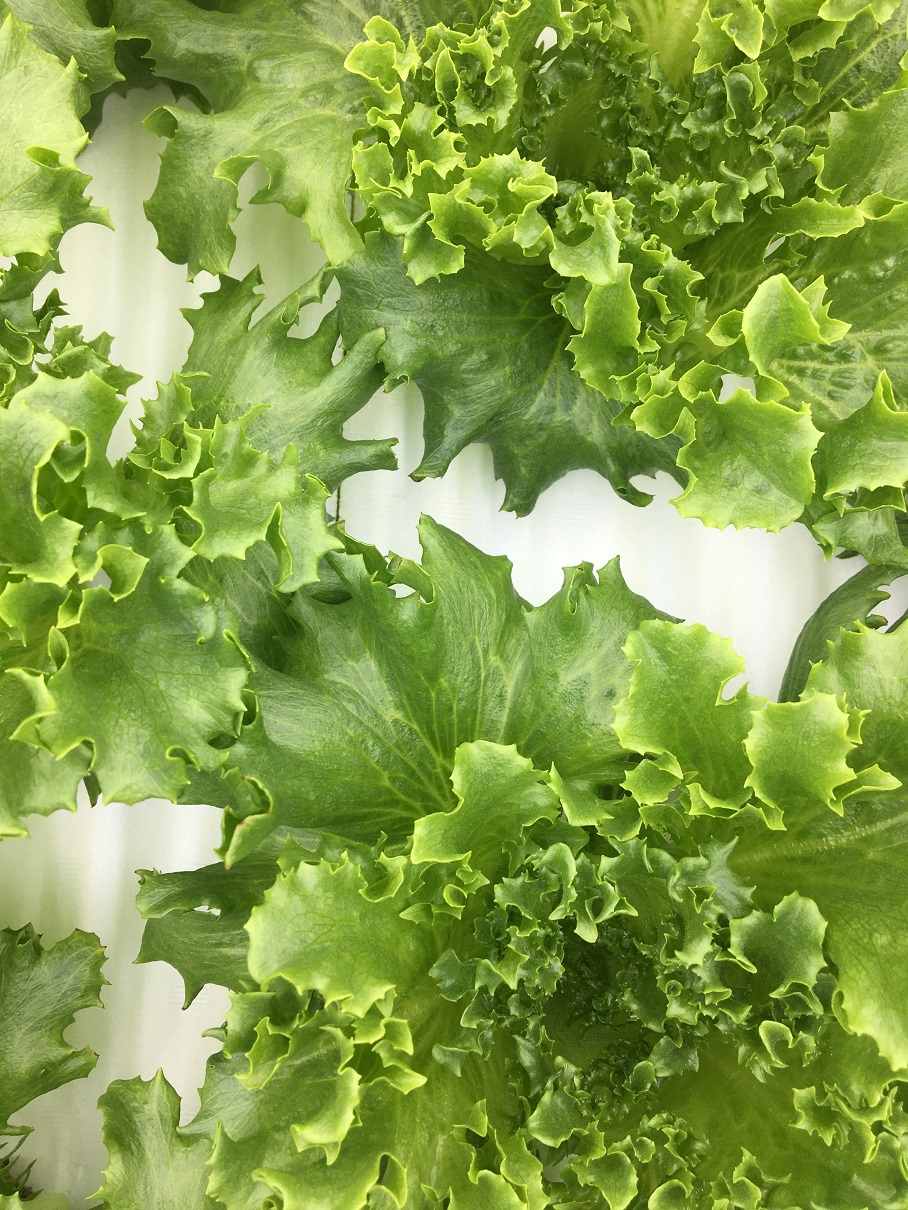tipburn: (218, 801, 260, 841), (228, 760, 268, 801), (322, 500, 361, 542), (81, 1034, 115, 1075), (386, 543, 422, 579), (89, 927, 124, 963), (85, 990, 117, 1024), (374, 372, 403, 406), (404, 469, 423, 488), (35, 926, 52, 946)
